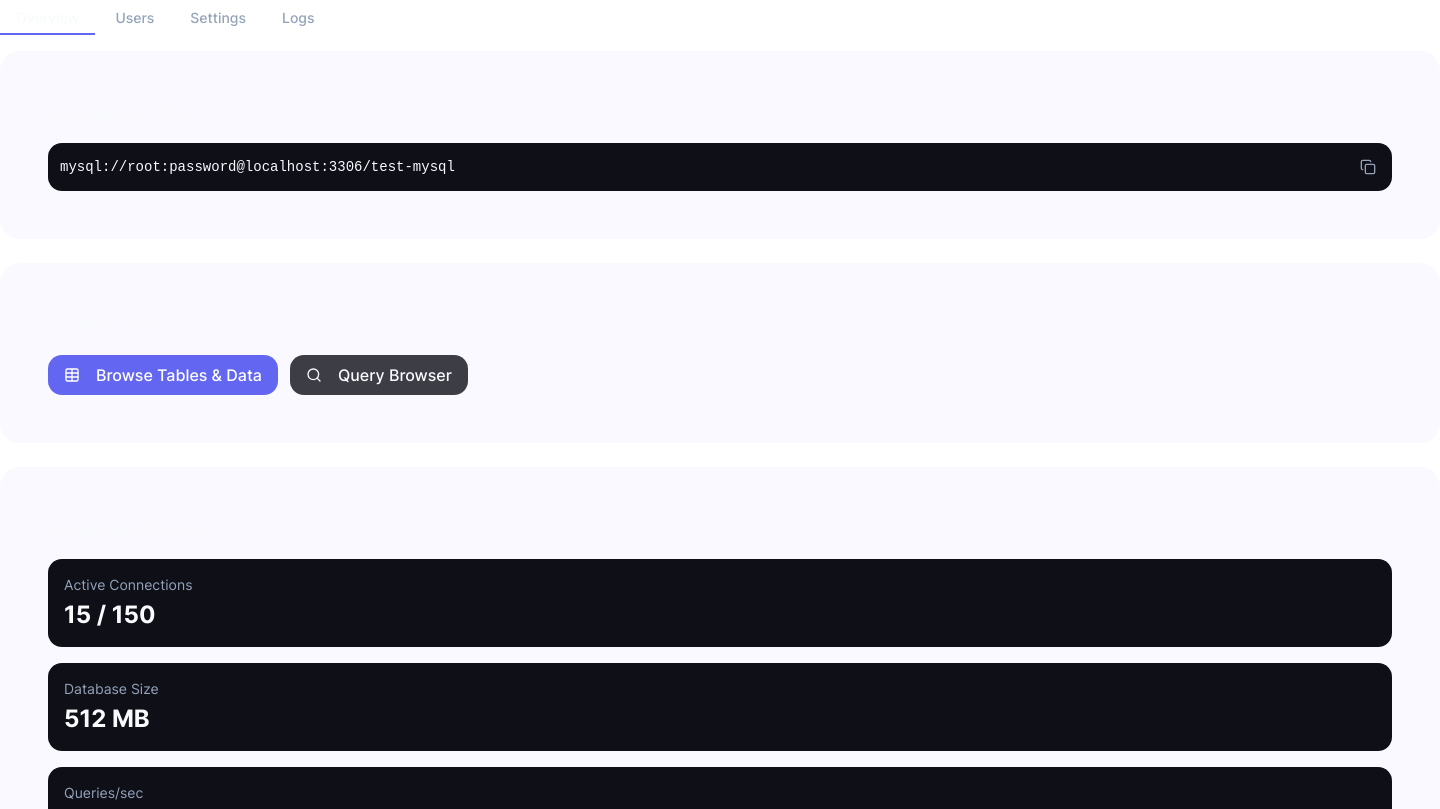
Test: MySQLPanel › Settings tab › should display slow query log option
This screenshot has width=1440, height=809.
Click the tab "Settings". click: x=218, y=18
box: x1=174 y1=0 x2=262 y2=36
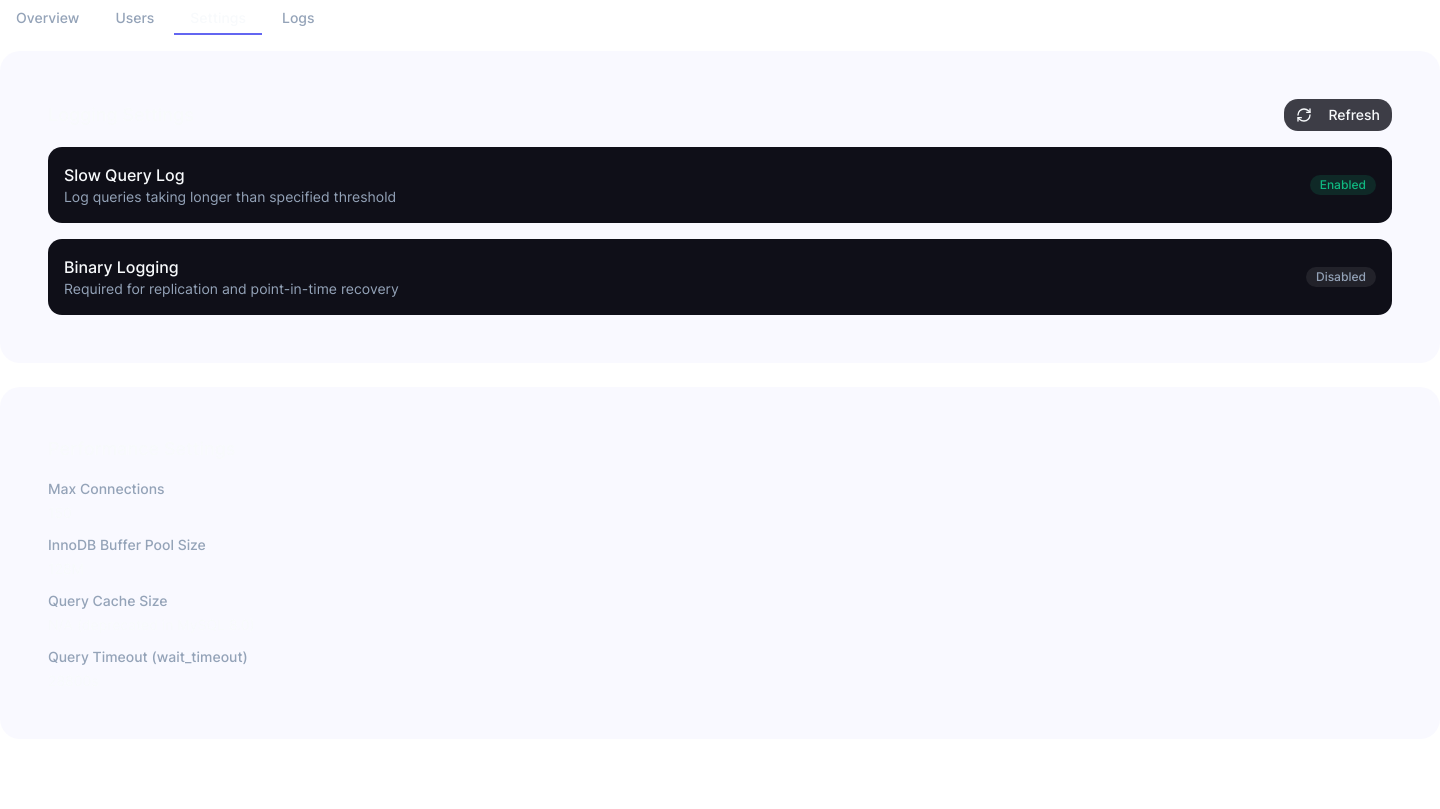
Expected: the text "Slow Query Log" is shown, x1=64 y1=165 x2=185 y2=185
Expected: the text "Binary Logging" is shown, x1=64 y1=257 x2=179 y2=277
